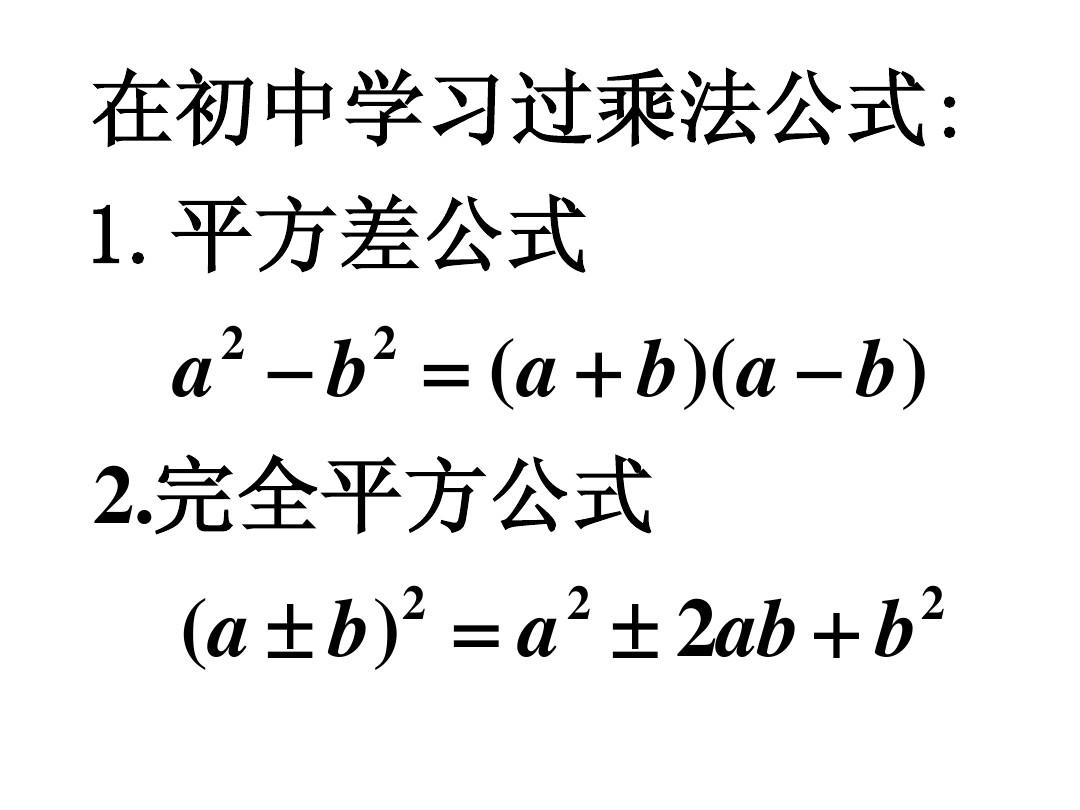square: (218, 326, 248, 370), (917, 580, 946, 624), (395, 584, 425, 626), (369, 320, 394, 363), (566, 581, 592, 622)
